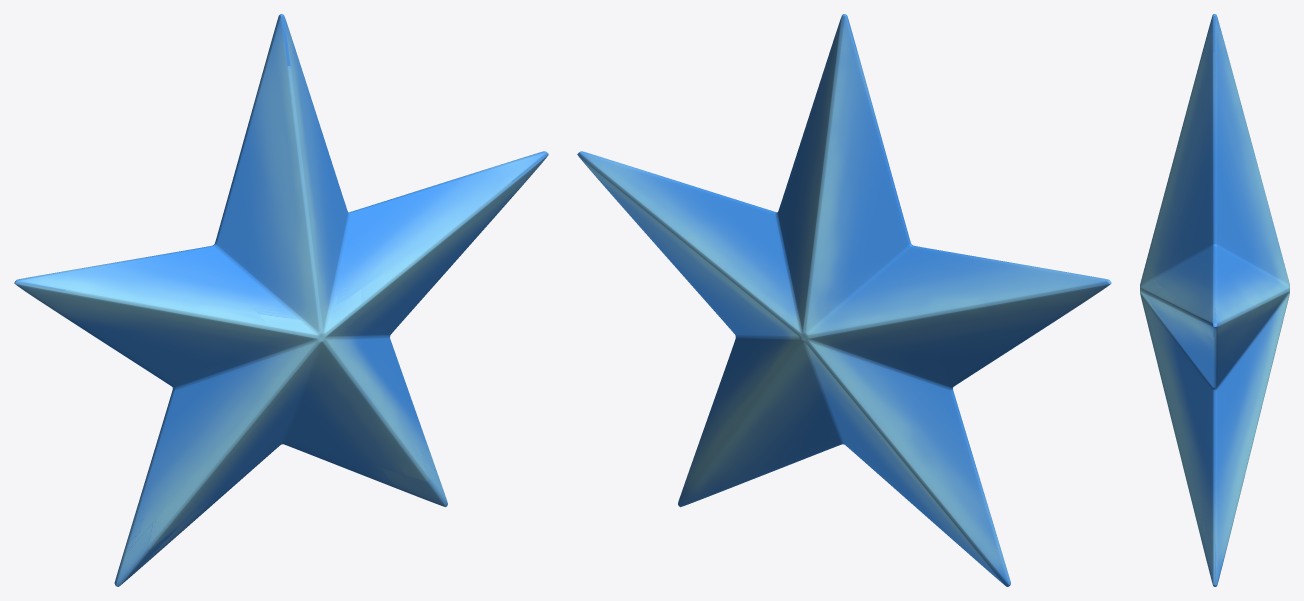
File: PowerUp_ohneML.fbx
3 views of the same model, side by side, from view 1: azimuth 30°, elevation 25°; view 2: azimuth 150°, elevation 25°; view 3: azimuth 270°, elevation 25° (orthographic). The views are drawn at different scales.
Visible parts, largest first — view 1: pCylinder2; view 2: pCylinder2; view 3: pCylinder2.
Boxes of the visible parts, box(x1,y1,x2,y2) form: pCylinder2: box(14, 14, 548, 586); pCylinder2: box(577, 14, 1111, 586); pCylinder2: box(1140, 14, 1289, 586).
Bounding box in the file's own units: 1.81 × 1.72 × 0.4699.
1 material, 1 textured.
